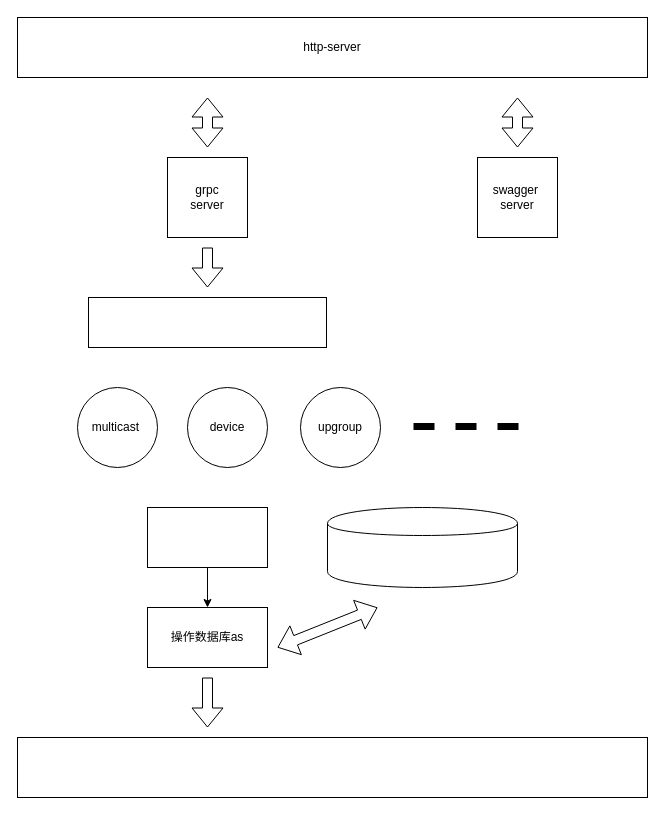
This 665x815 diagram has some shape labels left out. The box of each missing label's shape, as (x1, y1, x2, y2) in pixels:
grpc interfaces: (88, 296, 326, 348)
ns -grpc: (16, 736, 648, 798)
postgres: (326, 506, 518, 588)
参数校验 数据组装: (146, 506, 268, 568)
